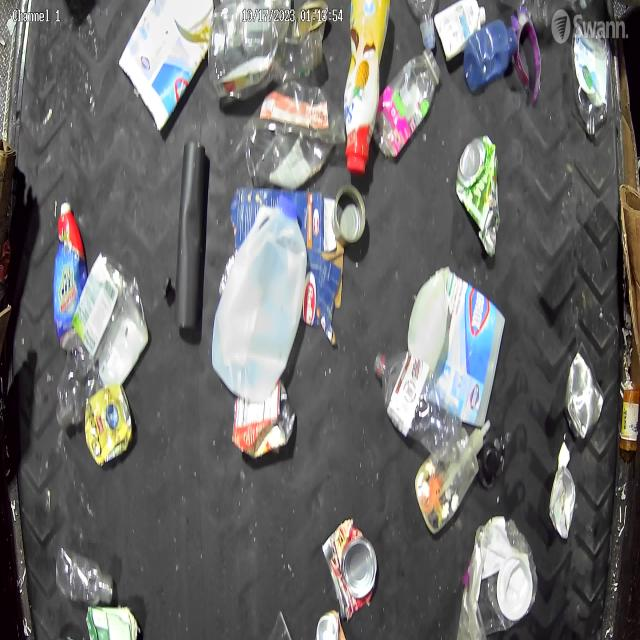milk-jug: (210, 196, 310, 408)
